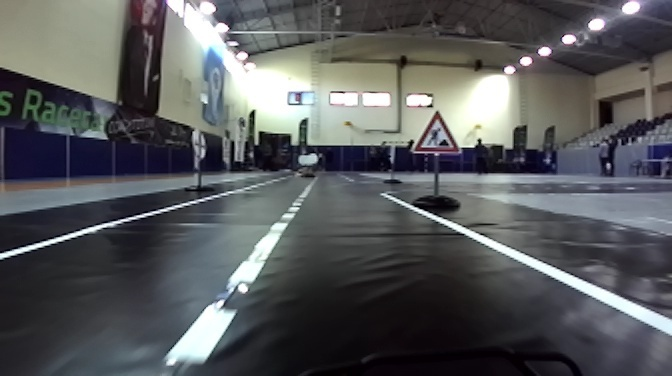yol_yapimi: (408, 111, 465, 154)
